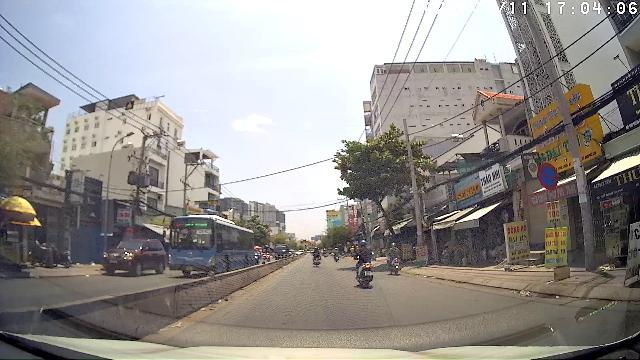131a-cam-do-xe: (537, 162, 559, 190)
